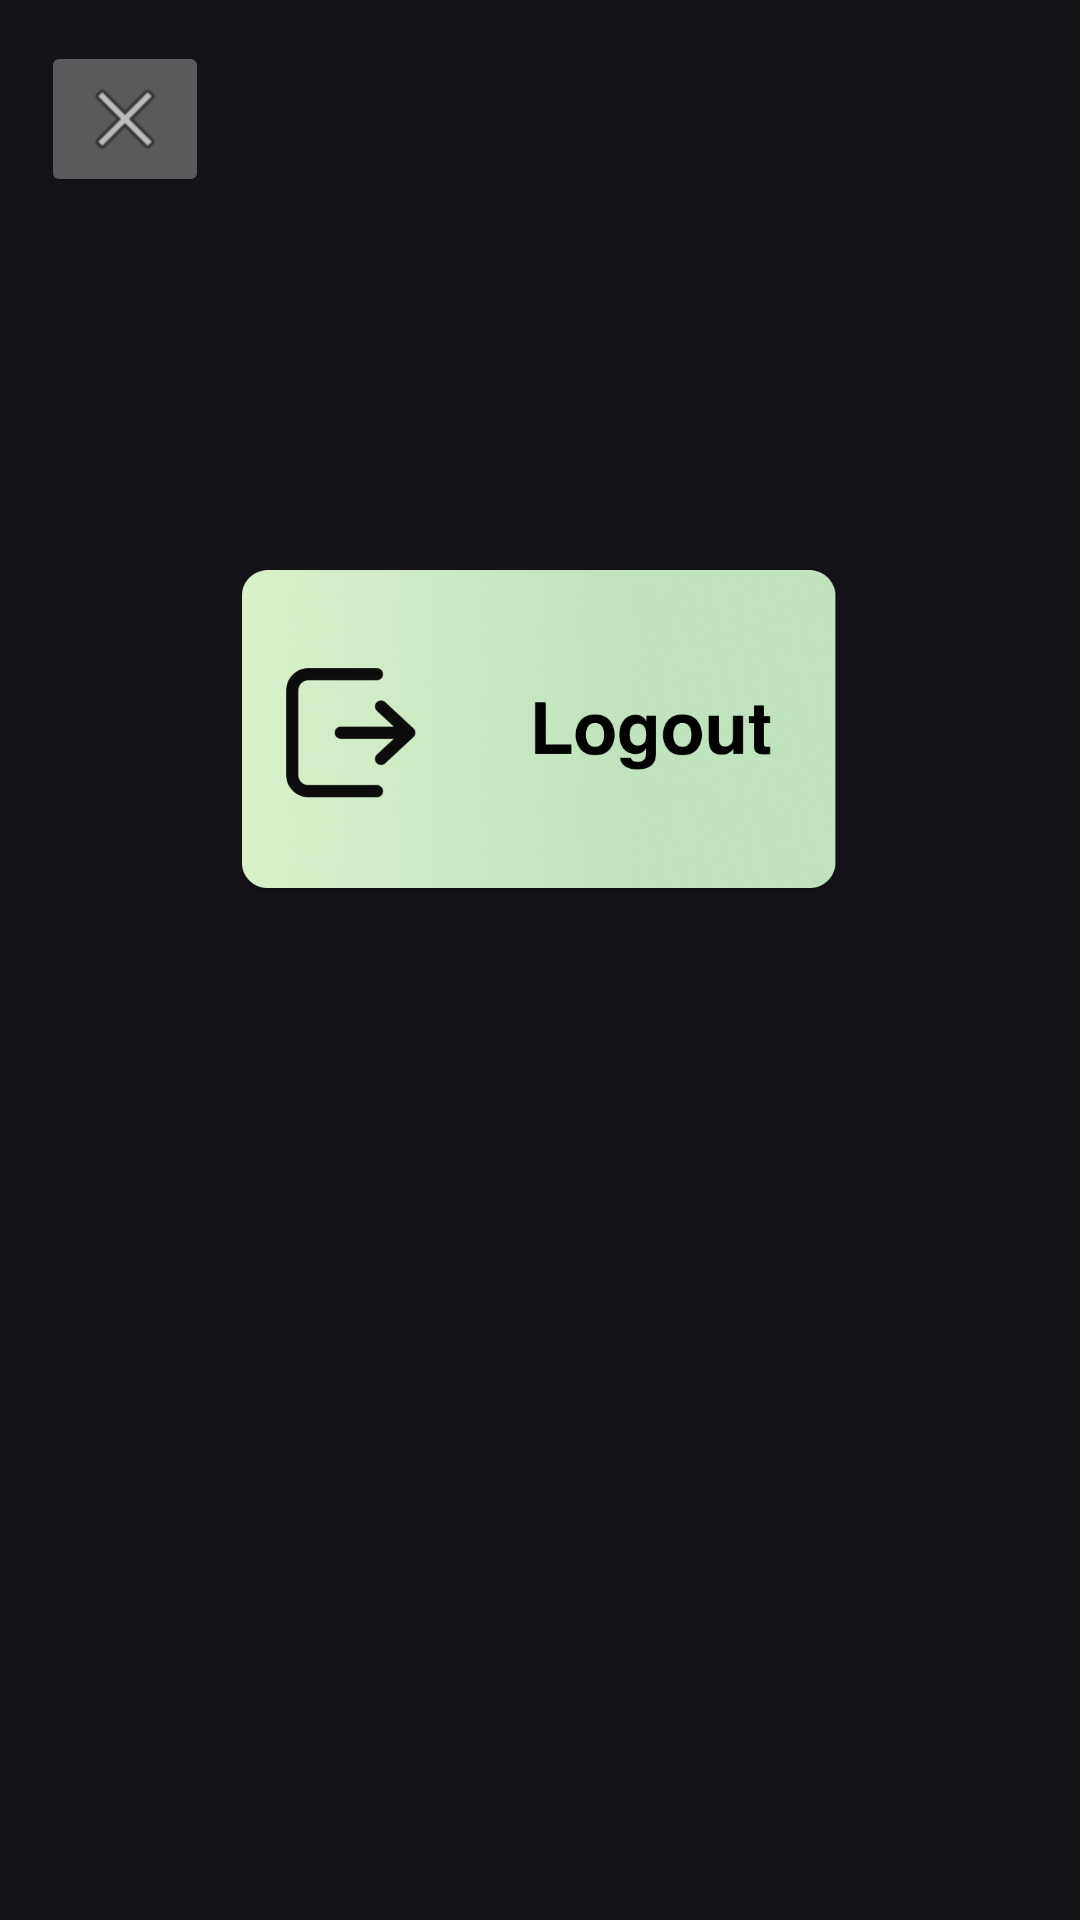

Point at icon controls on the screen. Image size 1080x1920, points as (x,y).
close clear cancel: (125,119)
